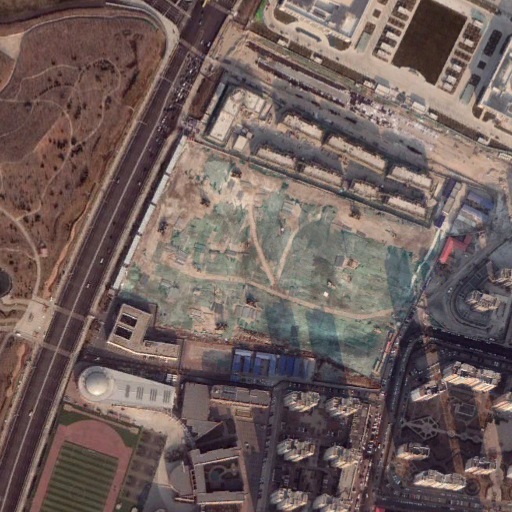cw: (119, 138, 450, 381)
